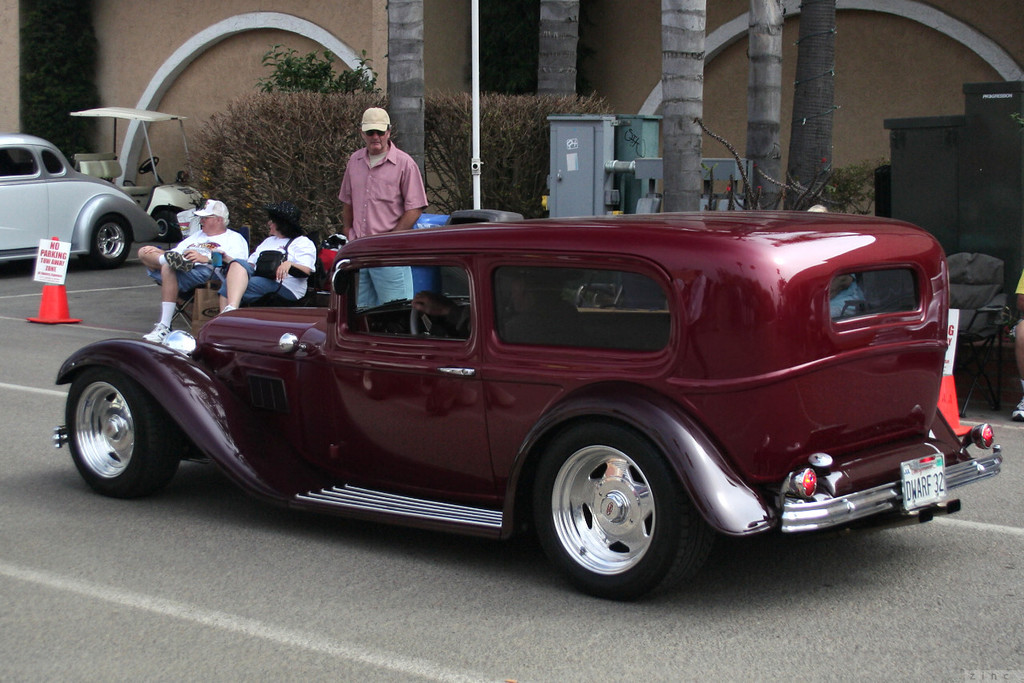Car: (39, 192, 970, 592), (0, 130, 171, 273)
